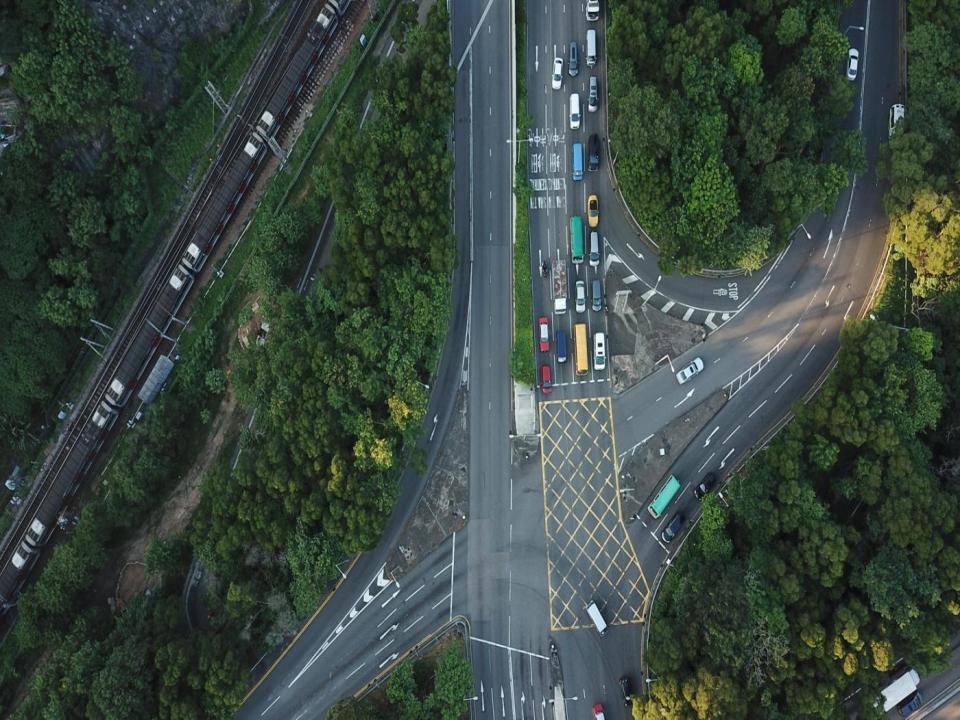bus: (647, 474, 681, 518), (573, 324, 588, 374), (570, 215, 585, 264), (888, 103, 904, 147), (572, 144, 583, 182)
car: (676, 356, 704, 385), (661, 511, 684, 542), (693, 472, 715, 501), (618, 676, 635, 706), (899, 694, 922, 716), (845, 48, 858, 82), (588, 133, 599, 173), (538, 317, 550, 353), (551, 57, 564, 90), (587, 195, 599, 228), (574, 280, 586, 312), (540, 365, 553, 393), (593, 705, 604, 719)
truck: (869, 666, 921, 716), (552, 260, 567, 314), (586, 0, 600, 19)
van: (585, 600, 608, 637), (594, 333, 607, 370), (588, 232, 600, 267), (587, 76, 599, 111), (585, 30, 597, 64), (569, 93, 580, 129), (556, 330, 567, 365), (568, 42, 578, 77), (592, 280, 602, 312)
